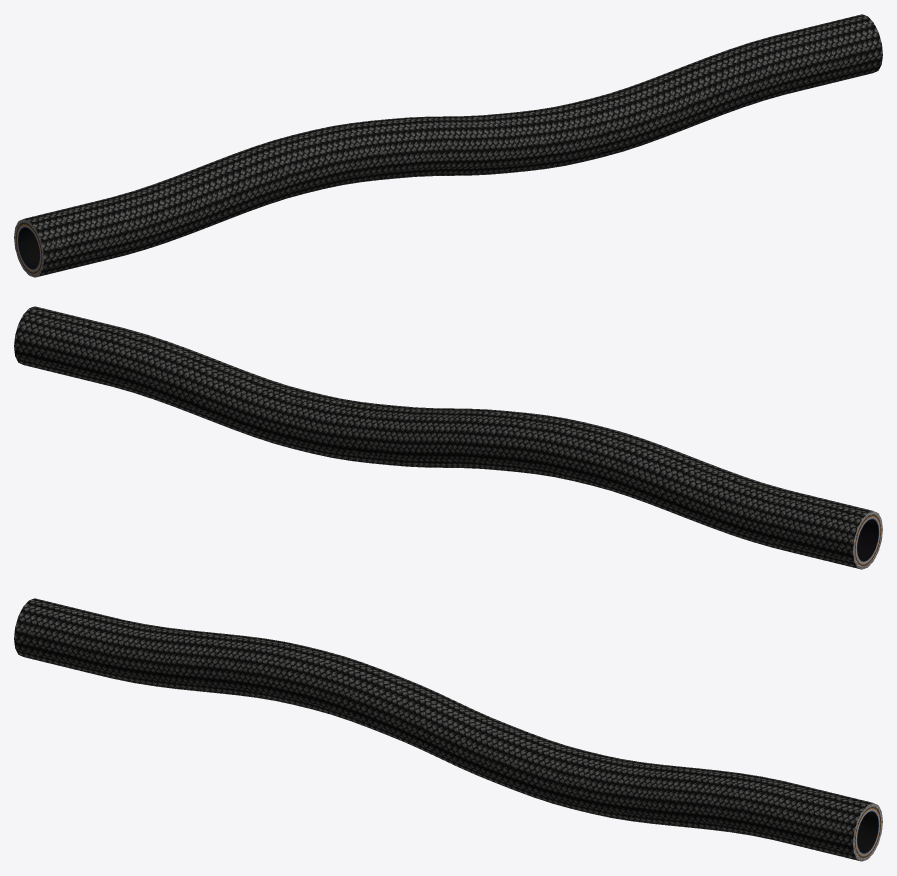
The picture shows the model from 3 angles, top to bottom: view 1: azimuth 30°, elevation 25°; view 2: azimuth 150°, elevation 25°; view 3: azimuth 330°, elevation 25°; orthographic projection.
Visible parts, largest first — view 1: Polymer Braid-10; view 2: Polymer Braid-10; view 3: Polymer Braid-10.
Part boxes in pixels (box(x1,y1,x2,y2)): Polymer Braid-10: box(14, 14, 882, 277); Polymer Braid-10: box(14, 306, 882, 569); Polymer Braid-10: box(14, 598, 882, 861).
Bounding box in the file's own units: 0.3074 × 0.0318 × 0.0191.
2 materials, 2 textured.
